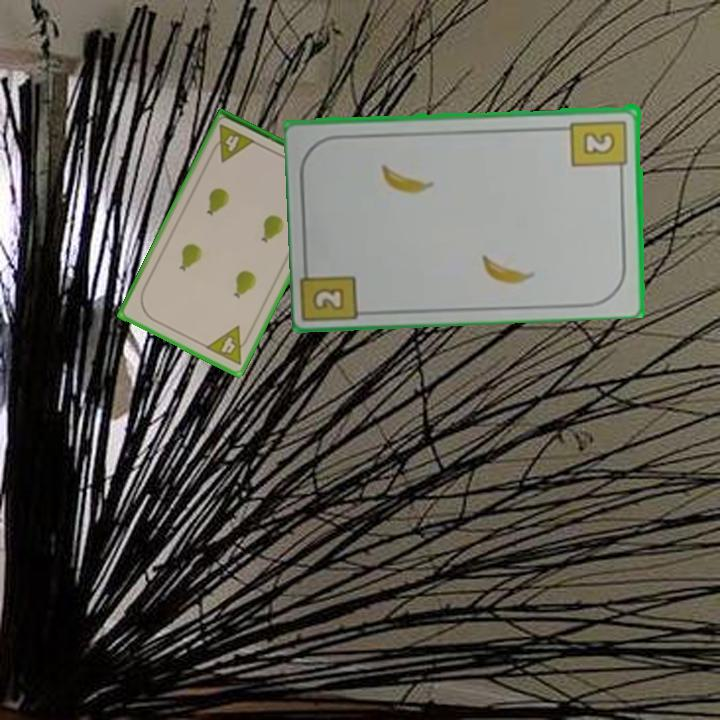2b: (568, 116, 631, 177), (308, 284, 348, 314)
4p: (202, 322, 254, 368), (207, 121, 258, 165)
